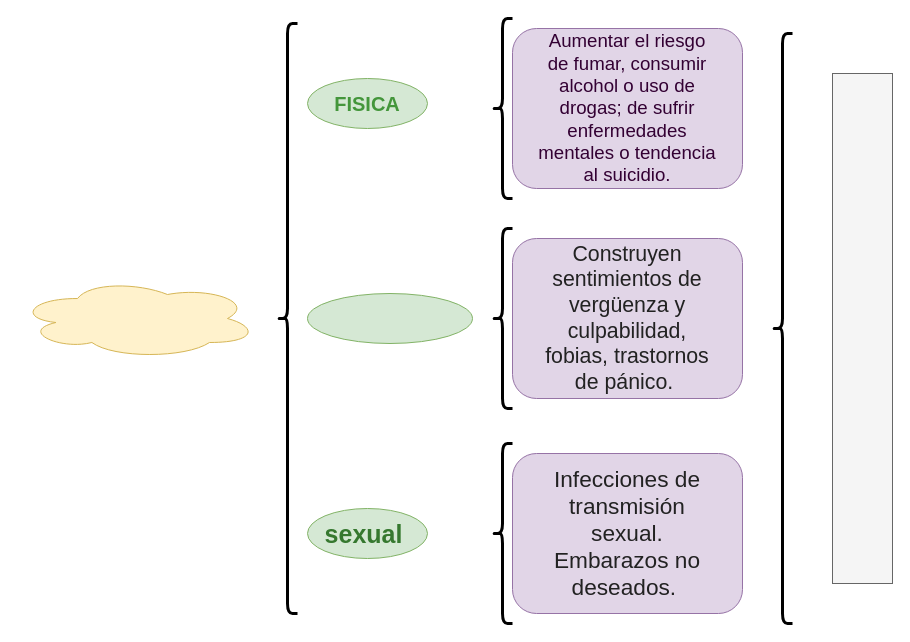
Some shapes in this 910 by 642 pixel diagram are drawn without their labels. The shapes that lost their labels are listed below. From the top down, each one's box as (x1, y1, x2, y2) in pixels, then its label:
(16, 278, 258, 358): VIOLENCIA
(306, 292, 472, 344): PSICOLOGICA
(832, 72, 892, 584): Termina mayormente en suicidio
